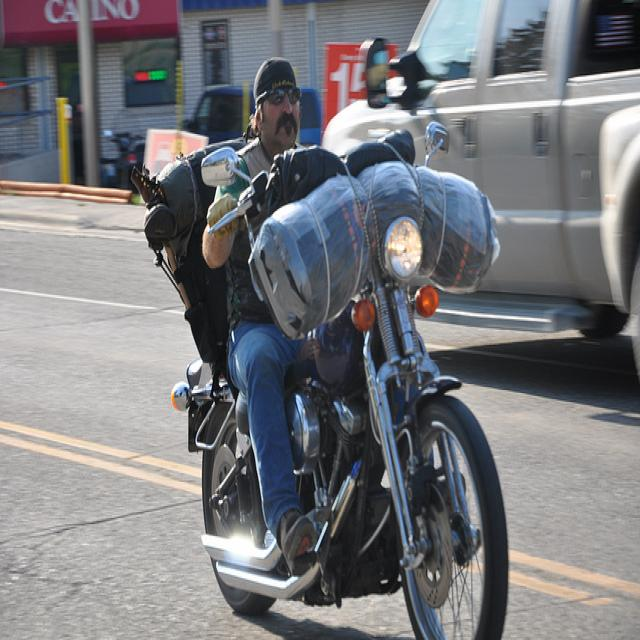motor: (145, 135, 517, 630)
